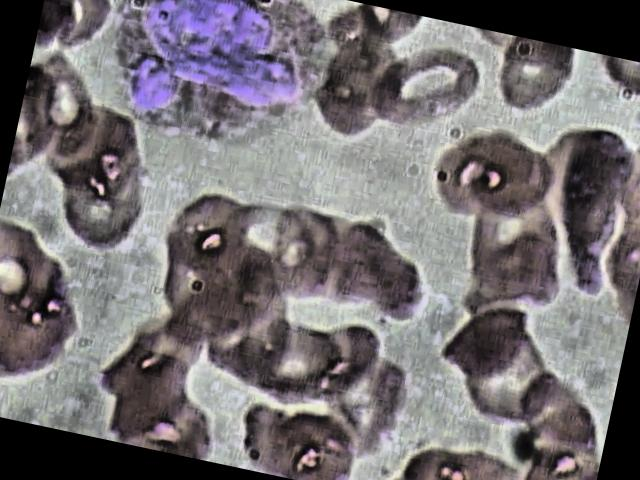RBC: (254, 304, 390, 436), (301, 345, 425, 476), (46, 126, 162, 264), (454, 192, 577, 322), (300, 24, 412, 150), (89, 344, 212, 458), (152, 184, 264, 305), (370, 36, 488, 148), (424, 120, 534, 237), (450, 325, 560, 439), (0, 248, 87, 391), (503, 366, 612, 480), (479, 32, 582, 128), (436, 297, 538, 393), (462, 136, 564, 232), (249, 404, 366, 480), (316, 212, 400, 317), (361, 239, 438, 332)
WBC: (89, 0, 337, 159)
